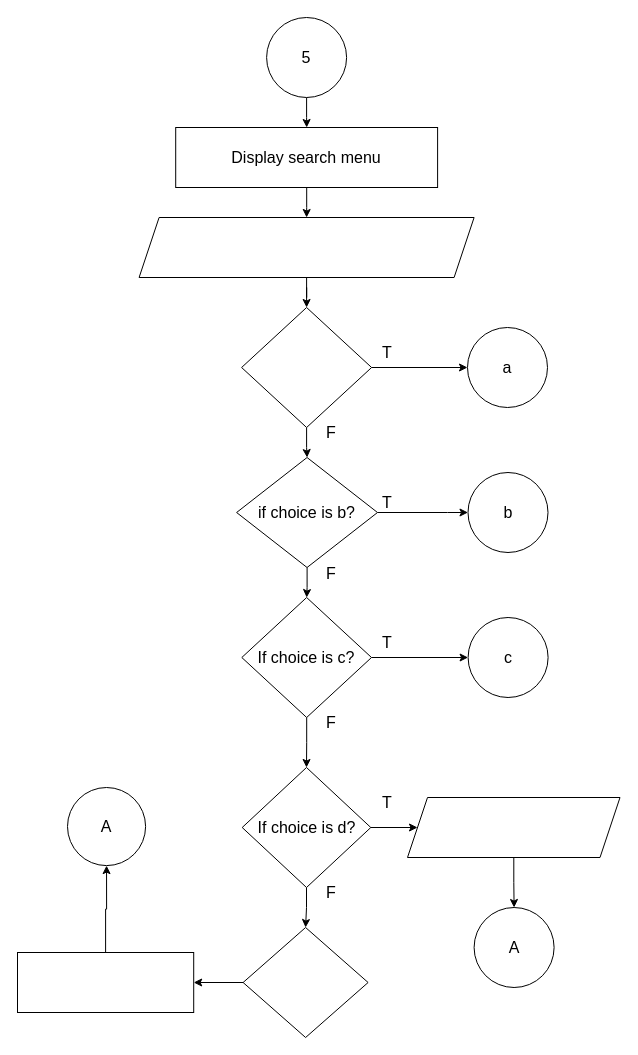
The diagram is 638 pixels wide and 1055 high, and some of its shapes have lost their labels. The centre of each missing label's shape, as x and y in pixels:
"Enter your choice for the search:" goes at point 306,247.
"If choice is a?" goes at point 306,367.
"If choice is incorrect?" goes at point 305,982.
"Press any key to quit the search operation" goes at point 513,827.
"Your entered Invalid choice for search" goes at point 105,982.
